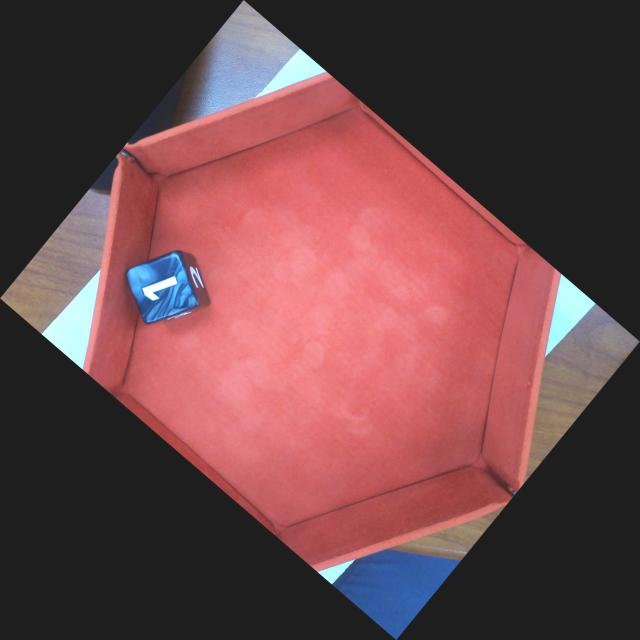dice: (124, 251, 203, 326)
